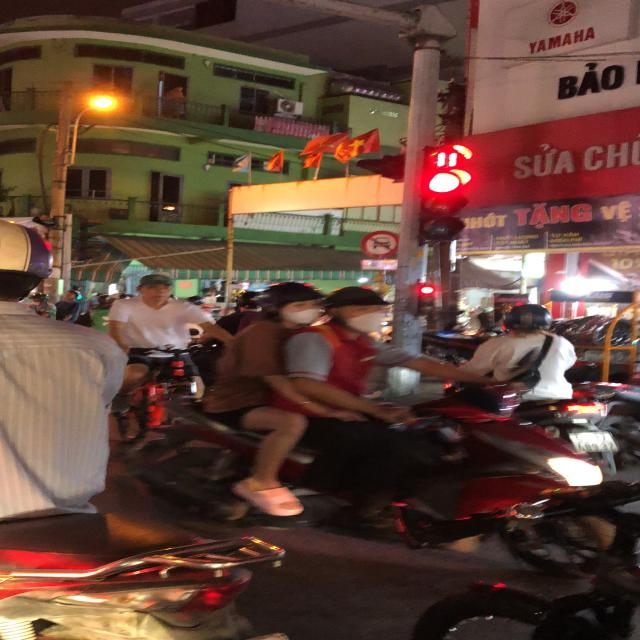Bien bao cam xe oto: (360, 230, 401, 258)
